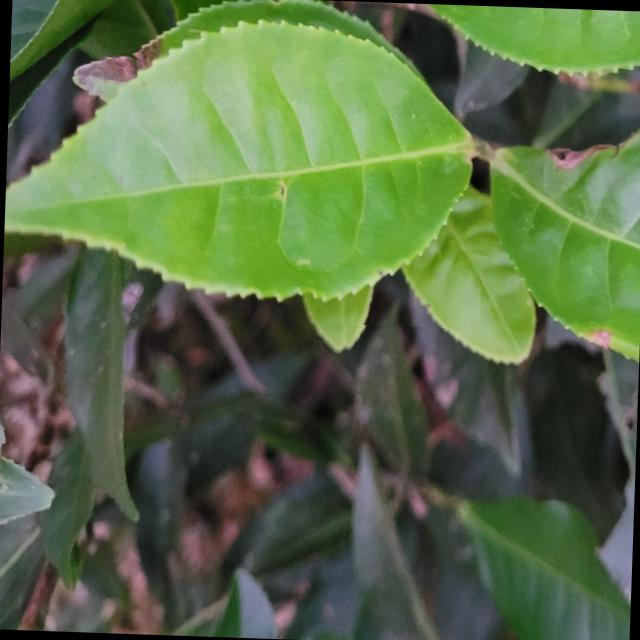Catagory A(1-2 days): (0, 6, 488, 328)
